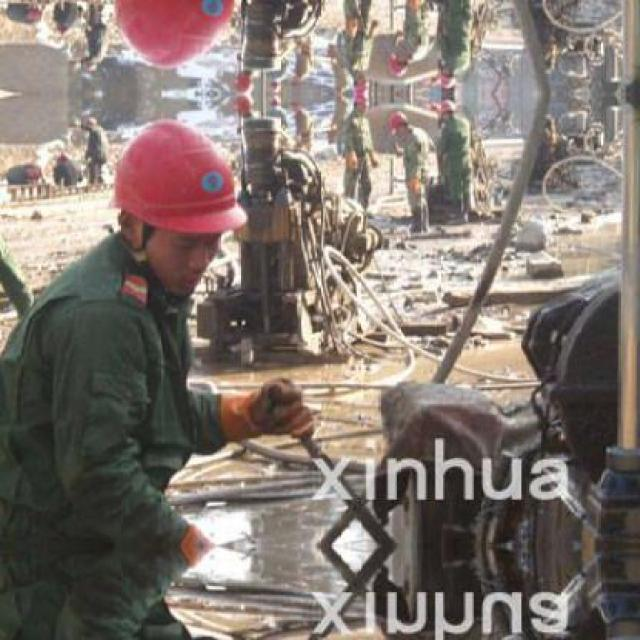helmet: (101, 105, 250, 291), (100, 0, 251, 83), (434, 96, 460, 122), (434, 66, 460, 92), (388, 108, 412, 134), (388, 55, 412, 81), (352, 76, 366, 94), (352, 95, 366, 112)
